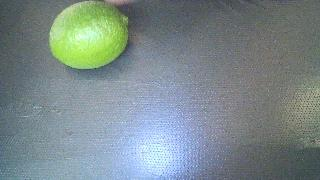EXPORTACION: (49, 0, 129, 69)
